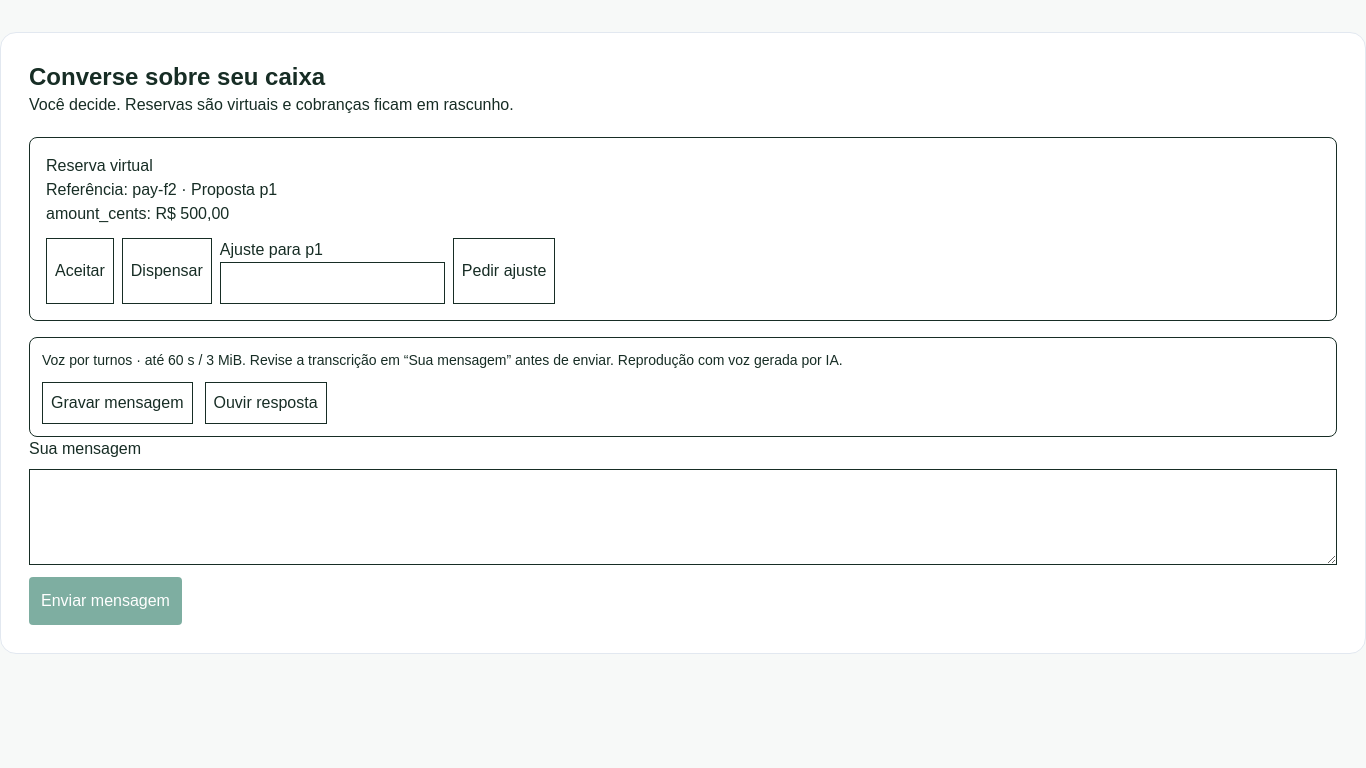
Test case: T18 AGENT-01 envia texto com origem user e mostra resposta
Type "Como está meu caixa?" into the text box labelled "Sua mensagem" at (683, 517), box [29, 469, 1337, 565]
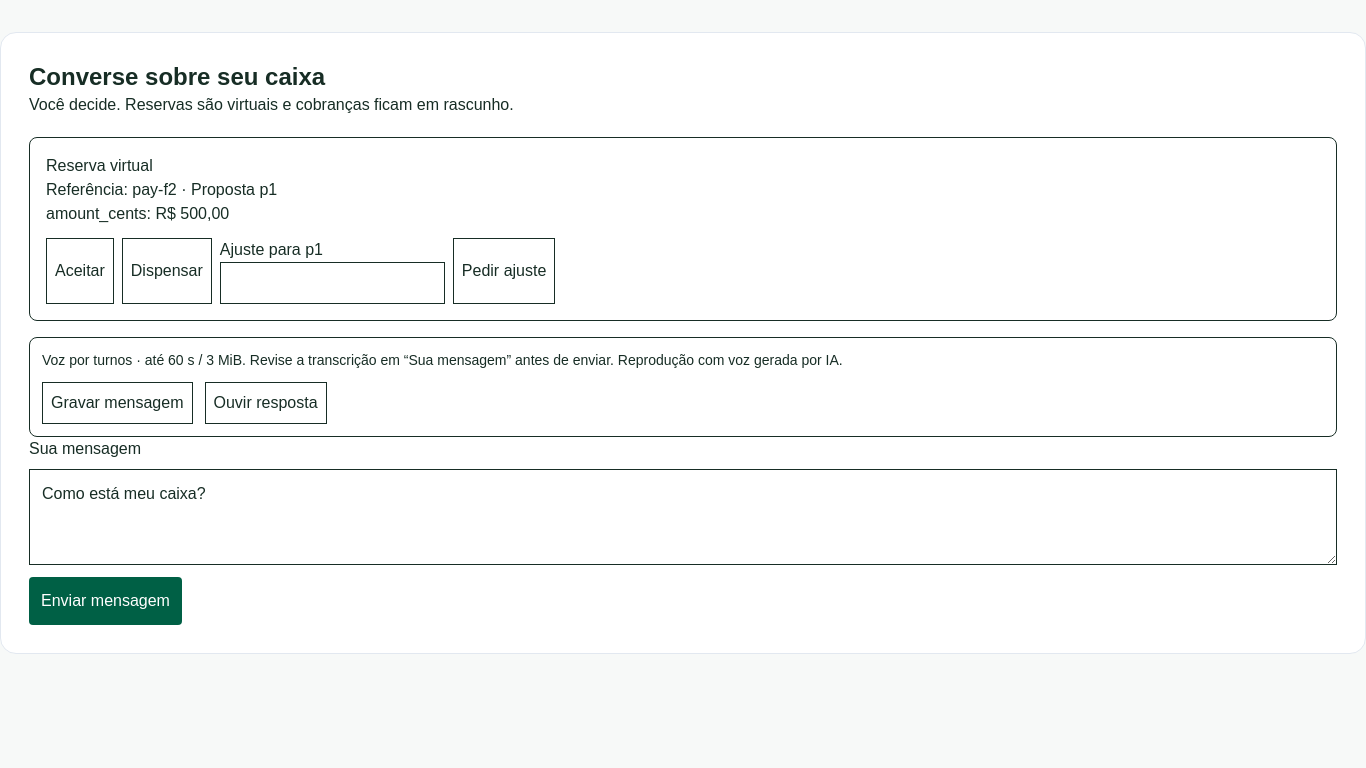
Click the button "Enviar mensagem" at (106, 601), box [29, 577, 182, 625]
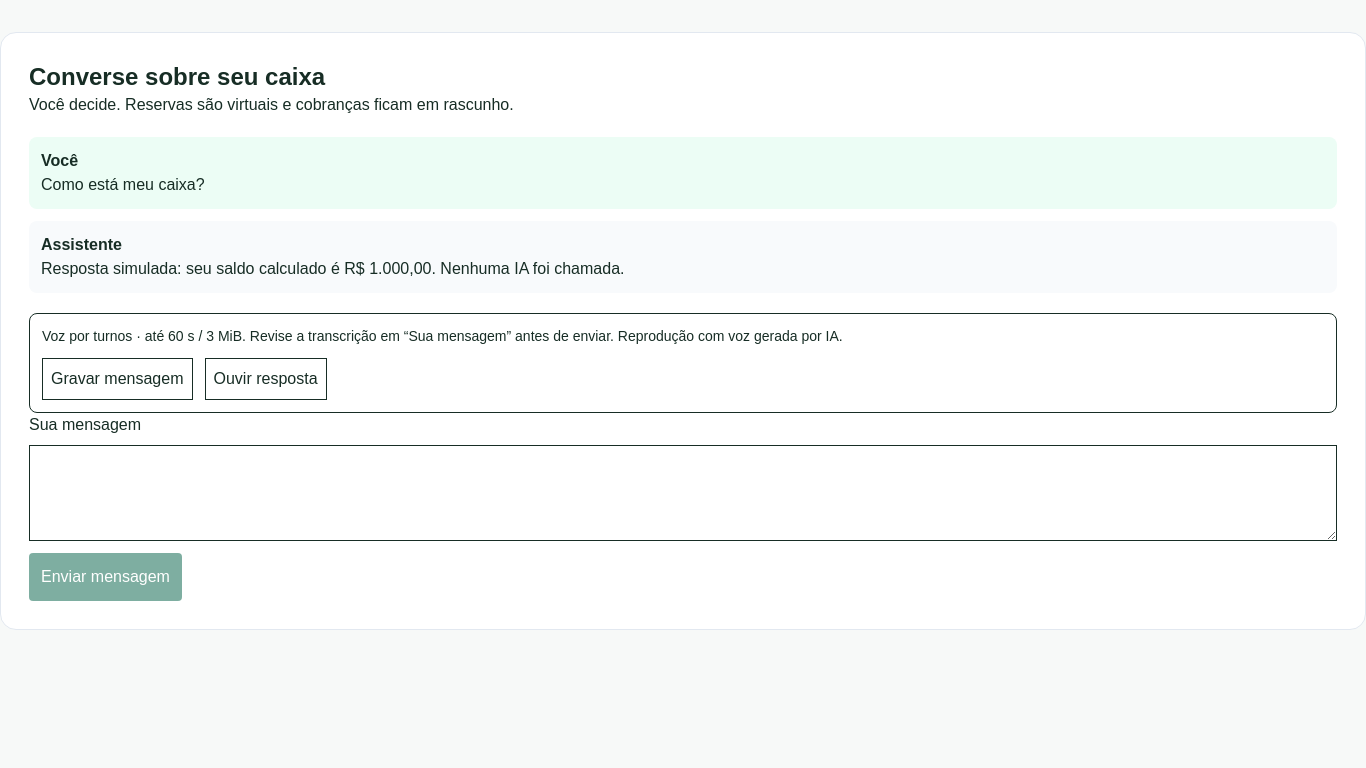
Now the text "Resposta simulada: seu saldo calculado é R$ 1.000,00. Nenhuma IA foi chamada." is shown, box [41, 260, 624, 277]
Now the text "Você" is shown, box [41, 152, 78, 169]
Now the text "Assistente" is shown, box [41, 236, 122, 253]
